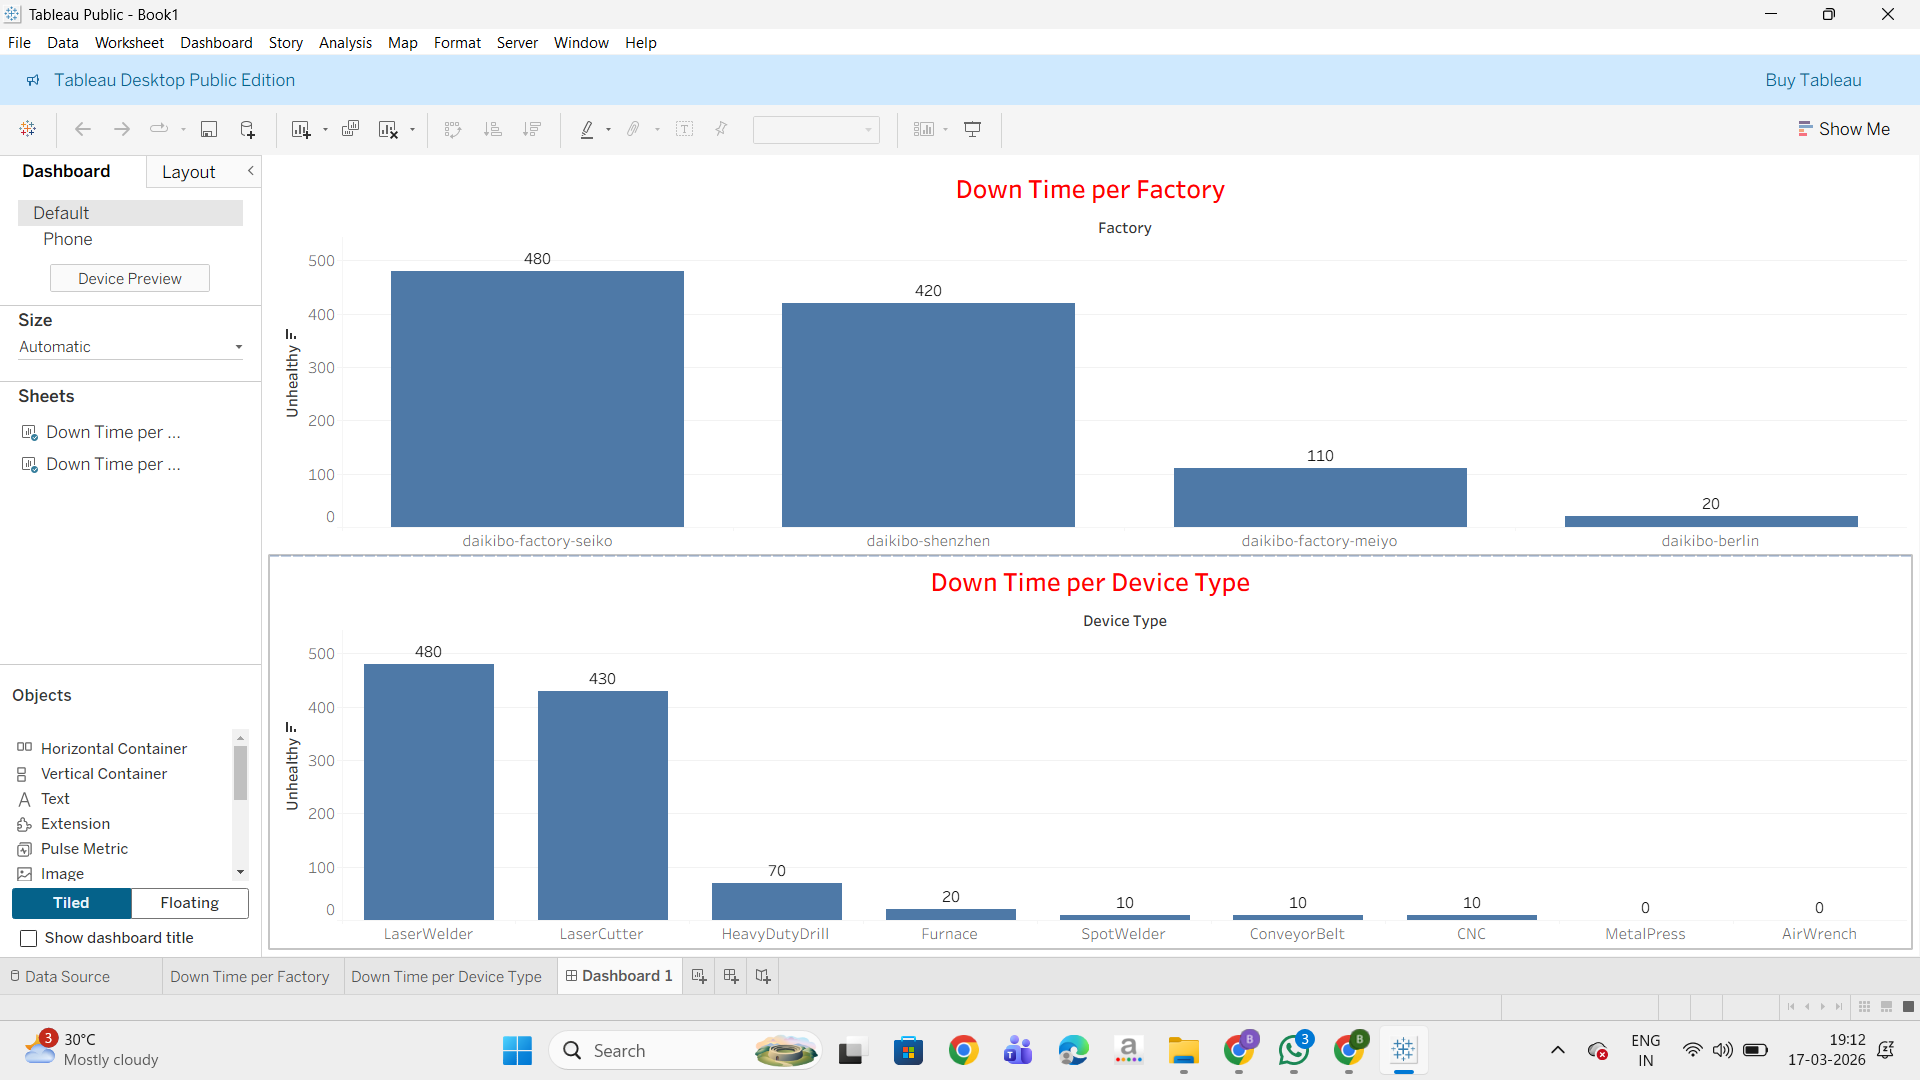

This screenshot's page, from the dashboard's own definition file:
{"tool":"tableau","page":{"name":"Dashboard 1","canvas":[1000,1000],"units":"permille","ordinal":0},"visuals":[{"type":"worksheet","title":"Down Time per Factory","mark":"Automatic","rows":["Calculation_0355191541338112"],"cols":["factory"],"box":[4.8,10,990.3,490]},{"type":"worksheet","title":"Down Time per Device Type","mark":"Automatic","rows":["Calculation_0355191541338112"],"cols":["deviceType"],"box":[4.8,500,990.3,490]}]}

Visuals, with their boxes on the dashboard's canvas, which has no fixed pixel size, in thousandths of its width and height (x1, y1, x2, y2). These are canvas units, not pixel positions in the 1920x1080 screenshot, which may show the page scaled, cropped or inside an application window:
"Down Time per Factory" worksheet: Rect(5, 10, 995, 500)
"Down Time per Device Type" worksheet: Rect(5, 500, 995, 990)
